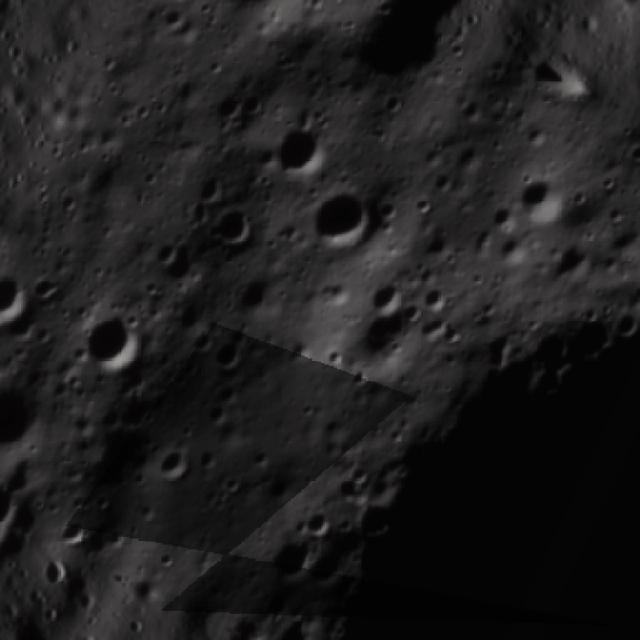crater: (318, 0, 472, 131), (327, 280, 436, 392), (291, 164, 392, 267), (64, 290, 164, 392), (0, 350, 71, 479), (214, 0, 353, 55), (502, 58, 608, 127), (259, 109, 339, 197), (248, 517, 328, 594), (142, 228, 220, 304), (508, 159, 588, 233), (232, 256, 299, 330), (539, 227, 607, 299), (345, 488, 409, 558), (143, 432, 205, 497), (208, 193, 272, 255), (195, 324, 256, 384), (164, 282, 221, 344), (476, 315, 532, 377), (272, 322, 328, 381), (358, 271, 414, 326), (256, 601, 333, 640), (0, 264, 38, 343), (25, 260, 78, 314), (200, 369, 251, 422), (0, 468, 38, 534), (48, 508, 95, 560), (485, 224, 533, 274), (202, 86, 252, 134), (188, 166, 234, 214), (149, 0, 197, 40), (417, 275, 460, 319), (604, 299, 640, 351), (300, 497, 342, 541), (195, 396, 236, 436), (435, 315, 474, 356), (132, 566, 176, 602), (482, 198, 520, 237), (212, 464, 250, 502), (599, 199, 632, 236), (238, 88, 272, 123), (618, 273, 640, 313), (160, 0, 203, 12)
